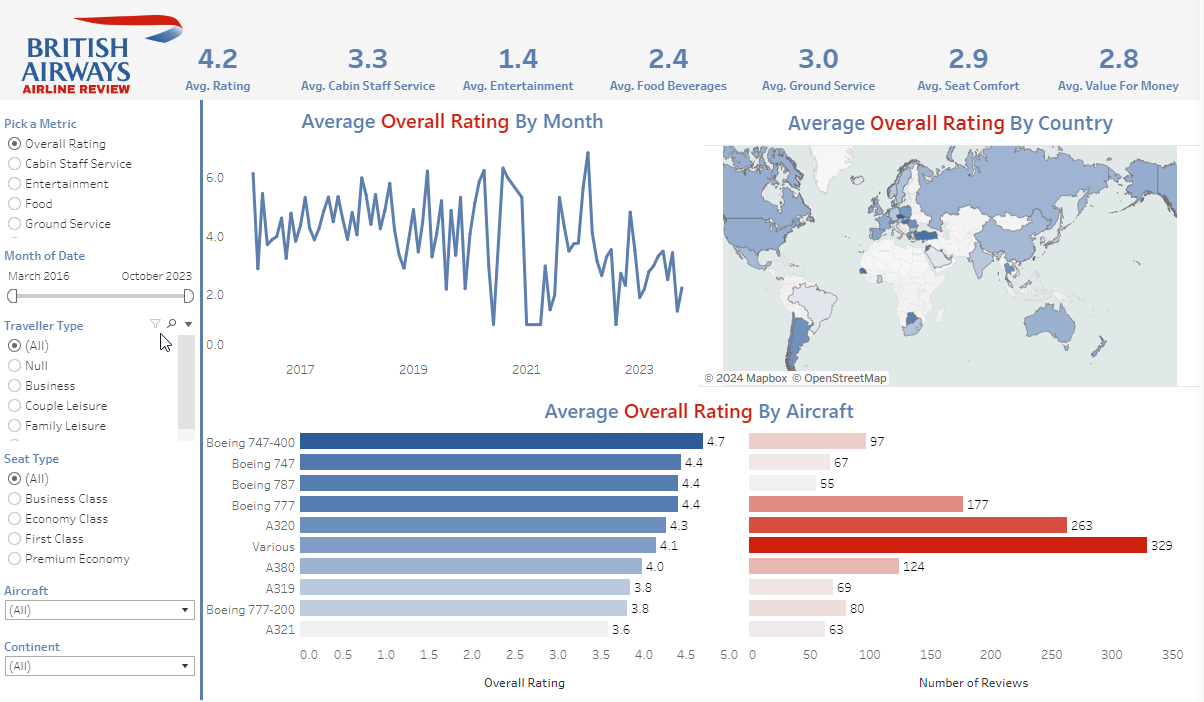

The dashboard page shown, as its layout file describes it:
{"tool":"tableau","page":{"name":"Dashboard 1","canvas":[1200,700],"ordinal":0},"visuals":[{"type":"image","param":"Image/REVIEWS (1).png","box":[9,7,263,184]},{"type":"worksheet","title":"Summary","mark":"Automatic","box":[143,16,1051,108]},{"type":"blank","box":[200,100,3,600]},{"type":"worksheet","title":"Month","mark":"Automatic","rows":["Calculation_852587756567367680"],"cols":["date"],"box":[200,102,505,282]},{"type":"worksheet","title":"Map","mark":"Automatic","box":[700,102,502,285]},{"type":"parameter","param":"[Parameters].[Parameter 1]","box":[0,110,200,139.5]},{"type":"filter","title":"Map","param":"[federated.073z2fm1jat5851g558761ekz9s5].[tmn:date:qk]","box":[0,249.5,200,69]},{"type":"filter","title":"Map","param":"[federated.073z2fm1jat5851g558761ekz9s5].[none:traveller_type:nk]","box":[0,318.5,200,139.5]},{"type":"worksheet","title":"Aircraft","mark":"Automatic","cols":["Calculation_852587756567367680","ba_reviews.csv_B27DCC7D9E76484186CD31AF038B6987"],"box":[200,392,998,305]},{"type":"filter","title":"Map","param":"[federated.073z2fm1jat5851g558761ekz9s5].[none:seat_type:nk]","box":[0,458,200,127]},{"type":"filter","title":"Map","param":"[federated.073z2fm1jat5851g558761ekz9s5].[Aircraft (group)]","box":[0,585,200,52]},{"type":"filter","title":"Map","param":"[federated.073z2fm1jat5851g558761ekz9s5].[none:Continent:nk]","box":[0,637,200,52]}]}

Visuals, with their boxes in screenshot pixels (x1, y1, x2, y2), scaled from the page's 1200x700 canvas onto the 1204x702 screenshot:
image: [9,7,273,192]
"Summary" worksheet: [143,16,1198,124]
blank: [201,100,204,701]
"Month" worksheet: [201,102,707,385]
"Map" worksheet: [702,102,1203,388]
parameter: [0,110,201,250]
"Map" filter: [0,250,201,319]
"Map" filter: [0,319,201,459]
"Aircraft" worksheet: [201,393,1202,699]
"Map" filter: [0,459,201,587]
"Map" filter: [0,587,201,639]
"Map" filter: [0,639,201,691]
